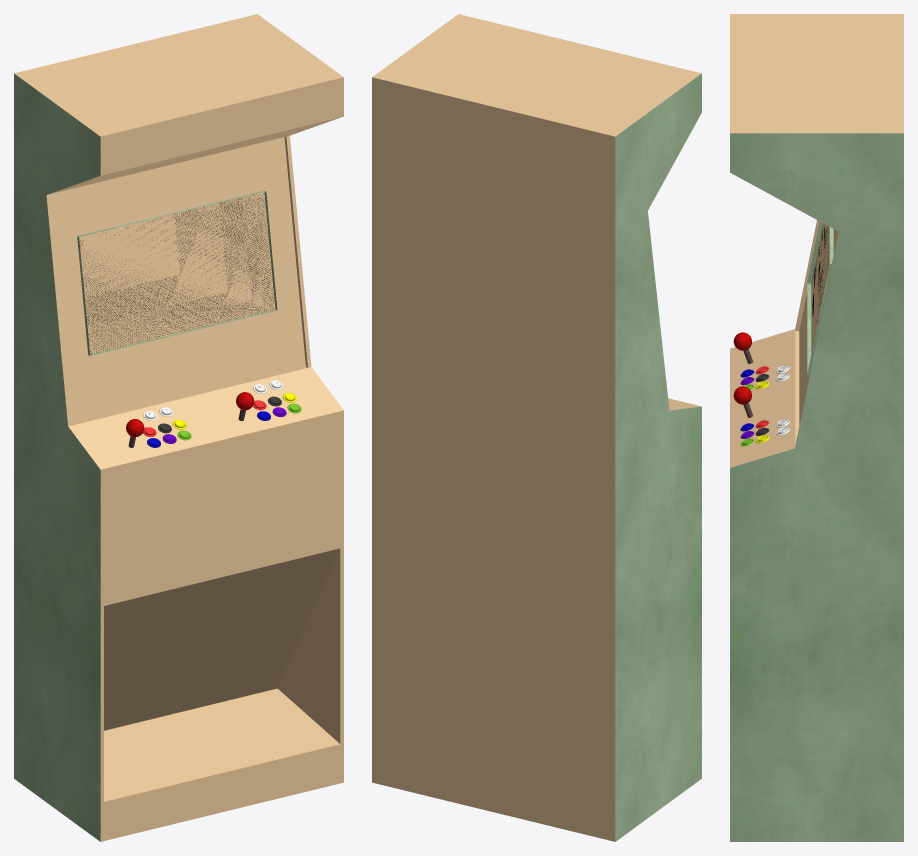
The model's file is arcade.dae.
The picture shows the model from 3 angles, left to right: view 1: azimuth 30°, elevation 25°; view 2: azimuth 150°, elevation 25°; view 3: azimuth 270°, elevation 25°; orthographic projection.
Visible parts, largest first — view 1: SketchUp (×3), Component_5, Component_10, Component_3, Component_9, Component_7, Component_4, Component_11, Component_6, Component_2; view 2: Component_2, SketchUp (×2), Component_3, Component_4; view 3: SketchUp (×5), Component_3, Component_7, Component_2, Component_4.
Boxes of the visible parts, x1,y1,x2,y2 form: SketchUp (×3): (14, 14, 343, 841); Component_5: (104, 411, 340, 605); Component_10: (104, 548, 340, 730); Component_3: (20, 16, 337, 134); Component_9: (104, 688, 339, 801); Component_7: (72, 368, 339, 468); Component_4: (102, 76, 340, 174); Component_11: (104, 744, 340, 840); Component_6: (51, 117, 338, 193); Component_2: (18, 15, 255, 73); Component_2: (375, 76, 613, 840); SketchUp (×2): (372, 14, 701, 841); Component_3: (378, 16, 695, 134); Component_4: (460, 15, 697, 73); SketchUp (×5): (730, 14, 903, 841); Component_3: (734, 15, 899, 131); Component_7: (730, 331, 795, 465); Component_2: (899, 15, 903, 131); Component_4: (730, 15, 734, 131).
Size of the model in its own units: 26 by 16 by 72.
13 materials, 1 textured.
